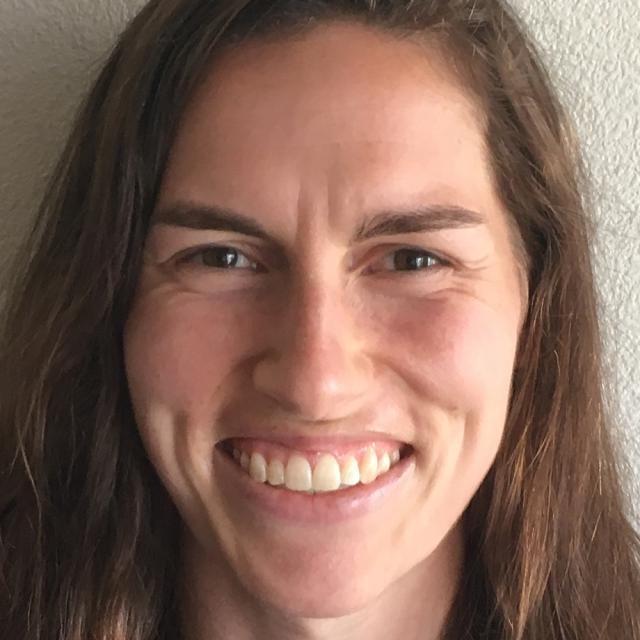Normal: (129, 19, 527, 617)
